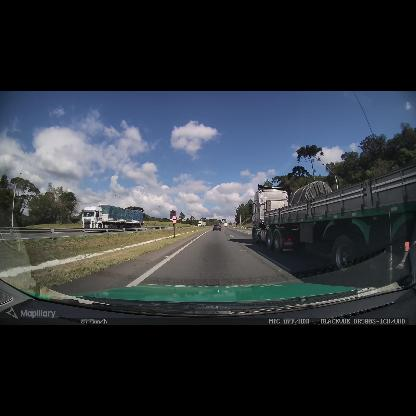R-24a: (172, 214, 177, 224)
